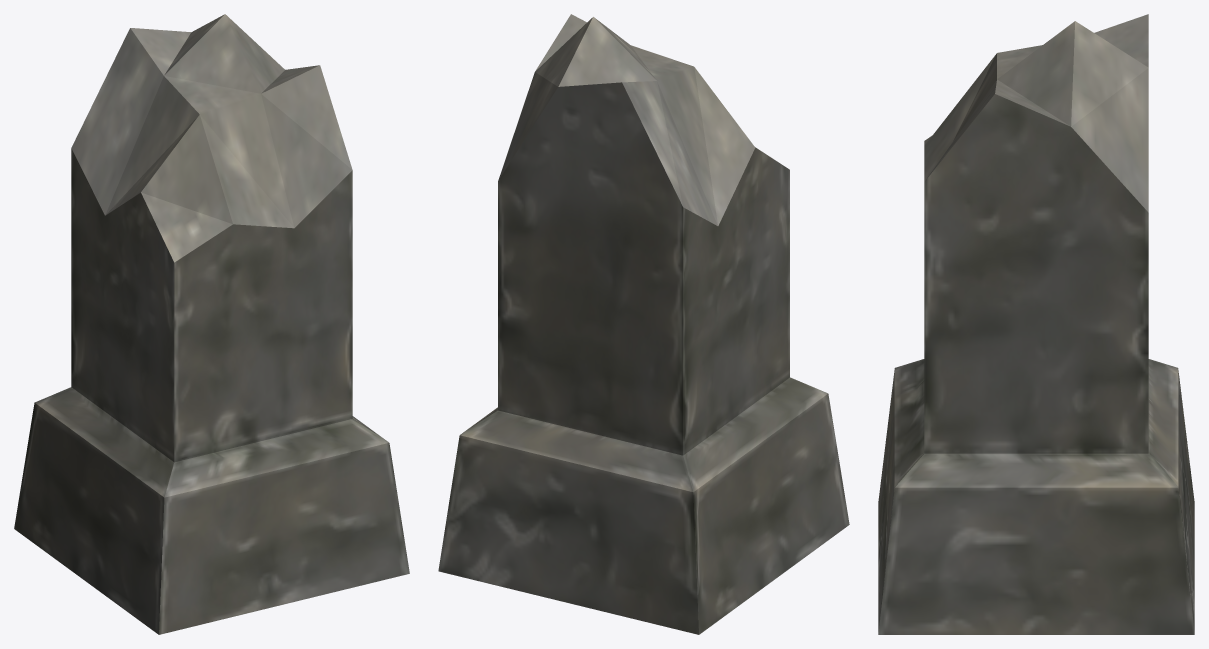
Rendered from Pillar_half_001.obj.
3 renders of one model, left to right at view 1: azimuth 30°, elevation 25°; view 2: azimuth 150°, elevation 25°; view 3: azimuth 270°, elevation 25°, orthographic. The views are drawn at different scales.
Parts seen in each view (by area): view 1: Pillar_half_001; view 2: Pillar_half_001; view 3: Pillar_half_001.
Part boxes in pixels (box(x1,y1,x2,y2)): Pillar_half_001: box(14, 14, 409, 634); Pillar_half_001: box(438, 14, 849, 634); Pillar_half_001: box(878, 14, 1194, 634).
Bounding box in the file's own units: 2.04 × 4.02 × 2.04.
